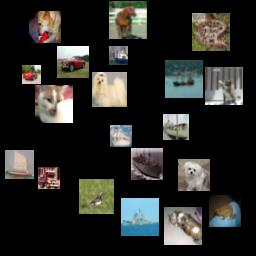automobile: (57, 46, 89, 78), (22, 65, 41, 84)
bird: (79, 179, 114, 214)
cat: (35, 85, 73, 123), (164, 207, 202, 245), (205, 67, 243, 105)
dog: (92, 72, 127, 107), (178, 159, 210, 191), (29, 11, 61, 43)
frog: (192, 13, 230, 51), (209, 195, 241, 227)
ship: (121, 198, 159, 236), (165, 60, 203, 98), (131, 148, 163, 180), (5, 150, 34, 179), (163, 114, 189, 140), (110, 125, 132, 147), (109, 46, 128, 65)
truck: (38, 167, 60, 189)
